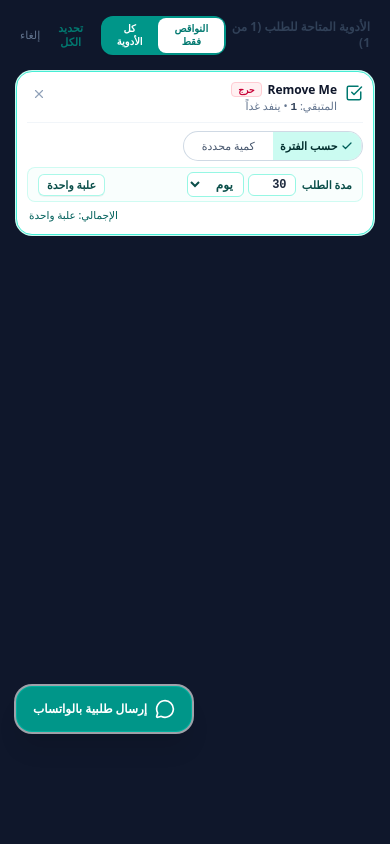
PharmacyShoppingView — deselection preservation (#20) › removes a medication from the shopping list without deleting it
What coordinates should you click on to do the following:
click the button named "إزالة Remove Me من قائمة الشراء"
I would click on:
 (39, 94)
Its box is x1=27 y1=82 x2=51 y2=106.
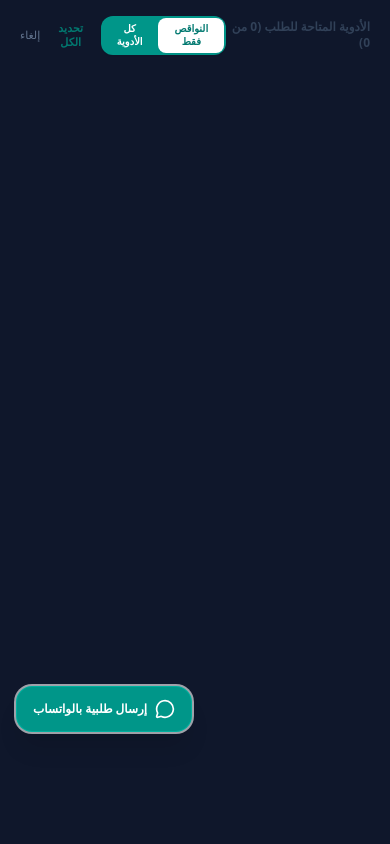
Now the heading "Remove Me" is gone
Now the text "الأدوية المتاحة للطلب (0 من 0)" is shown, box x1=226 y1=19 x2=370 y2=51
